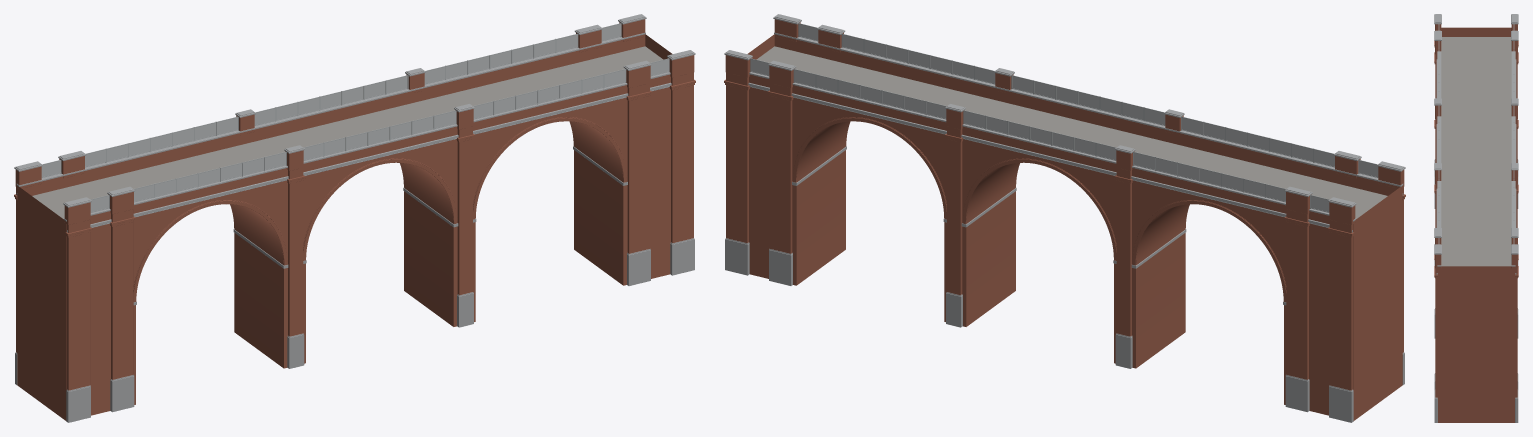
Rendered from ruestalle.glb.
3 views of the same model, side by side, from view 1: azimuth 30°, elevation 25°; view 2: azimuth 150°, elevation 25°; view 3: azimuth 270°, elevation 25° (orthographic). The views are drawn at different scales.
Parts seen in each view (by area): view 1: ruestalle; view 2: ruestalle; view 3: ruestalle.
Boxes of the visible parts, <box> form: ruestalle: <box>14,14,695,422</box>; ruestalle: <box>724,14,1405,422</box>; ruestalle: <box>1434,14,1518,422</box>.
Size of the model in its own units: 68.84 by 22.78 by 10.22.
